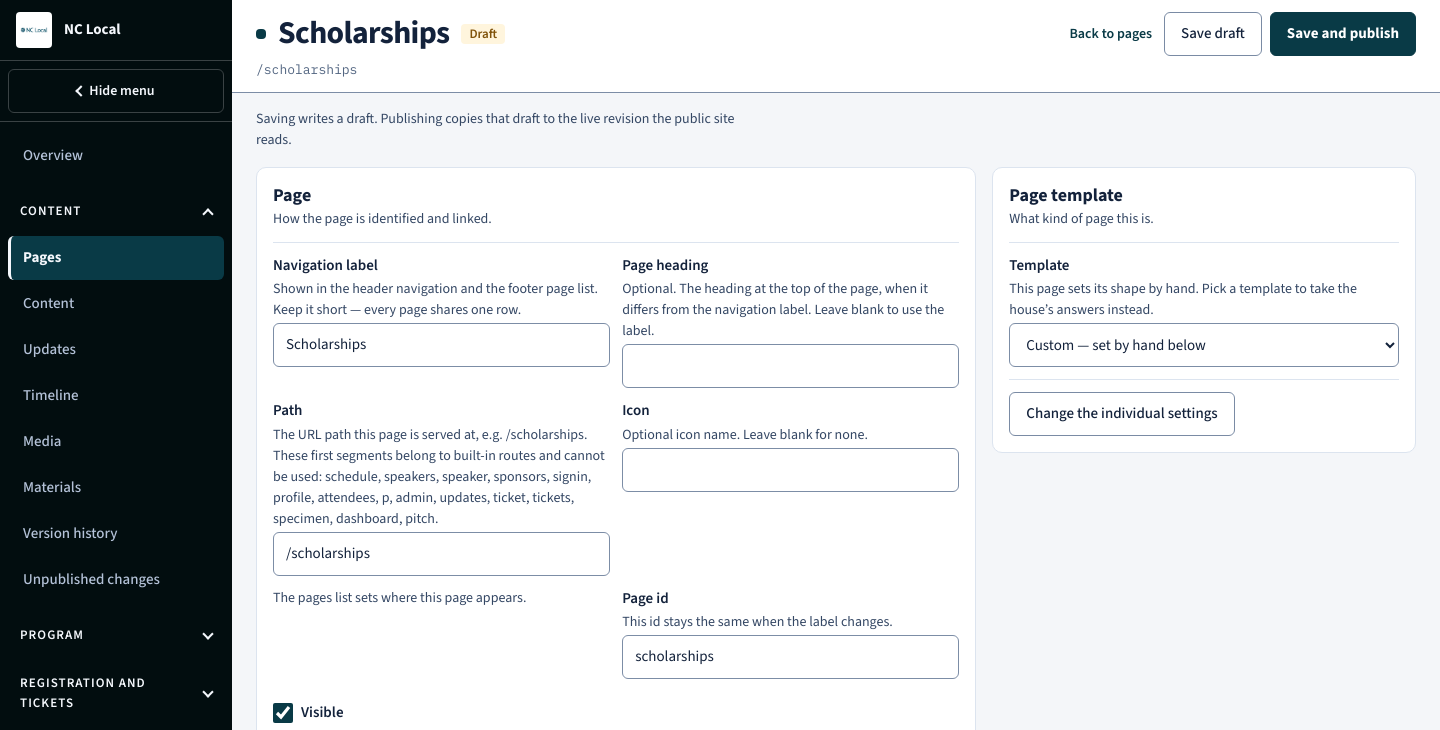
Test: page editor › surfaces the server’s reserved-path and collision rejections verbatim
Expected: the heading "Scholarships" is shown, [278,15,450,53]
Replace the text in the field labelled "Path" with "/schedule" at (442, 554), box [273,532,610,576]
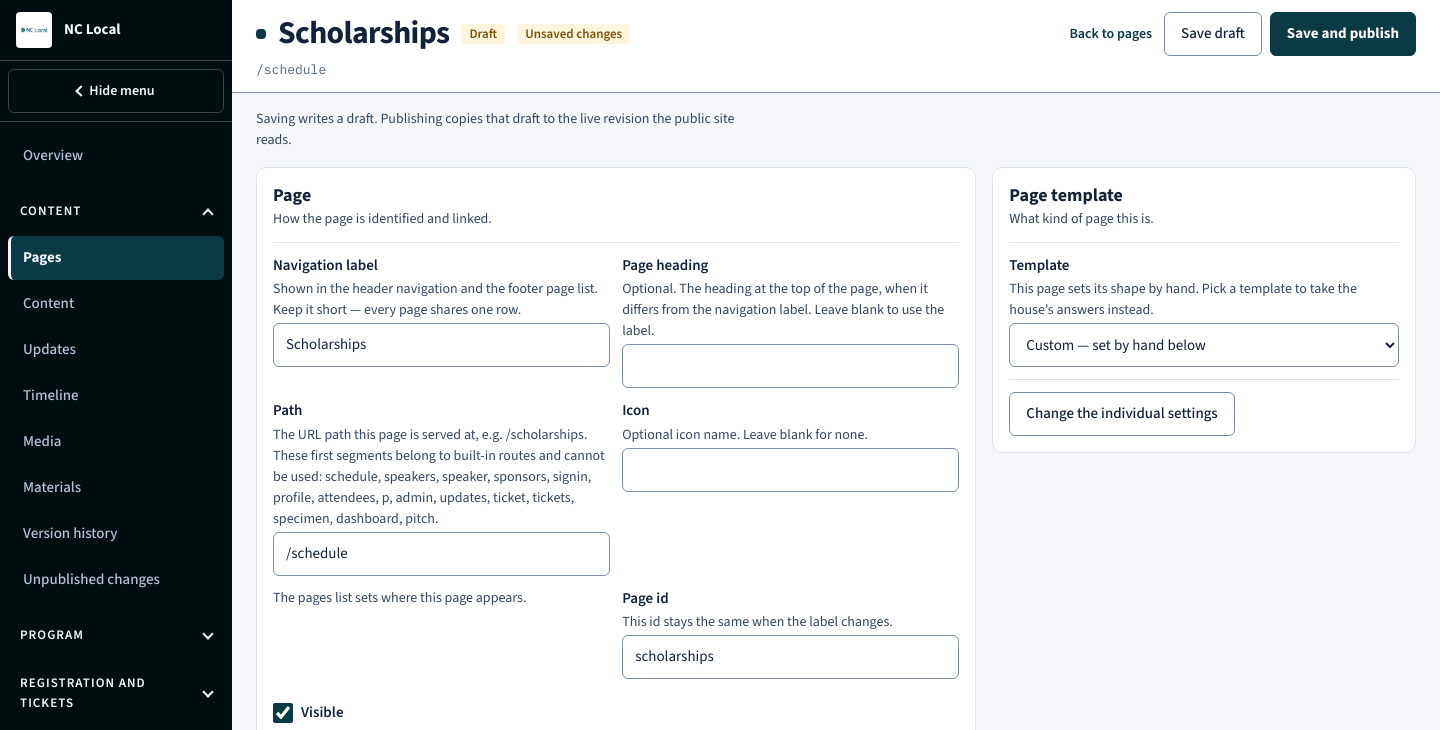
Click the button "Save draft" at (1213, 34), box [1164,12,1262,56]
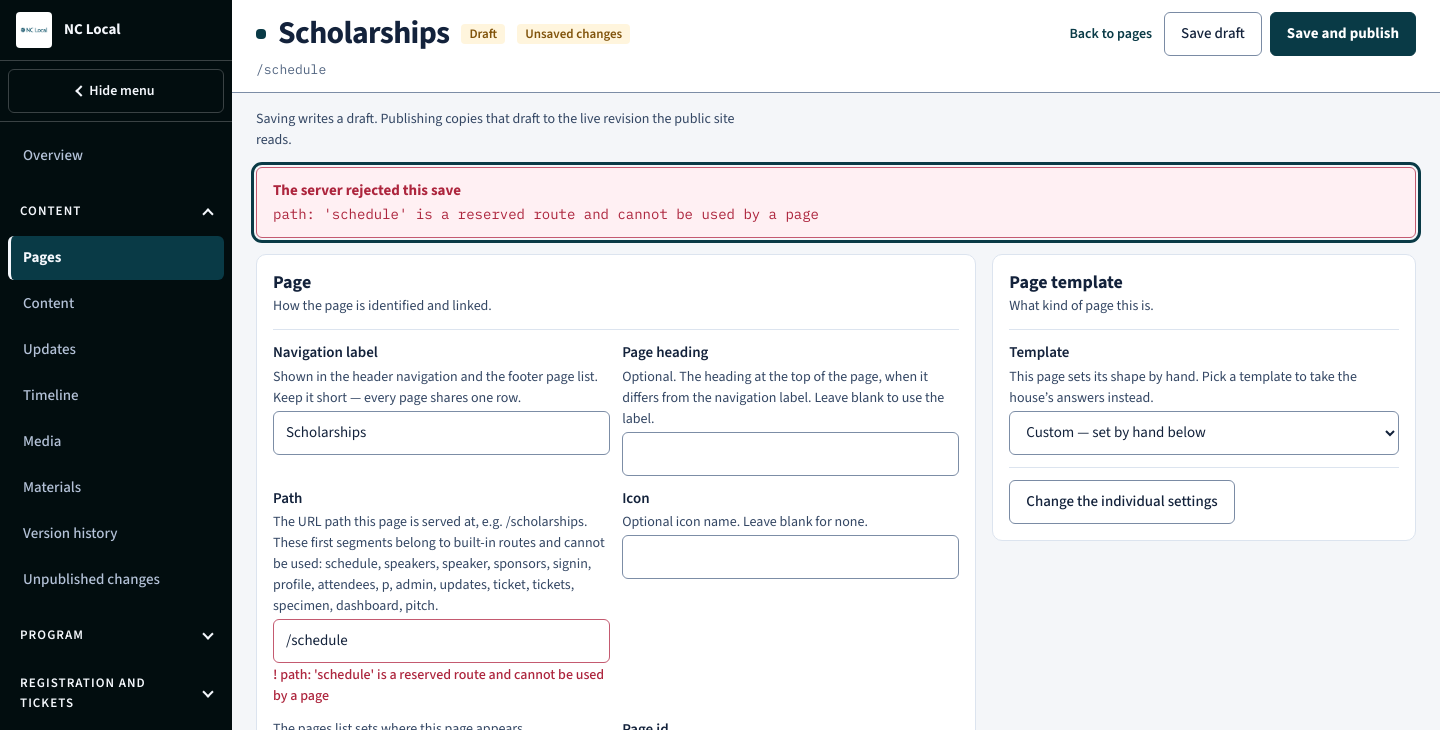
Expected: the message shows "path: 'schedule' is a reserved route and cannot be used by a page", [273,205,819,223]
